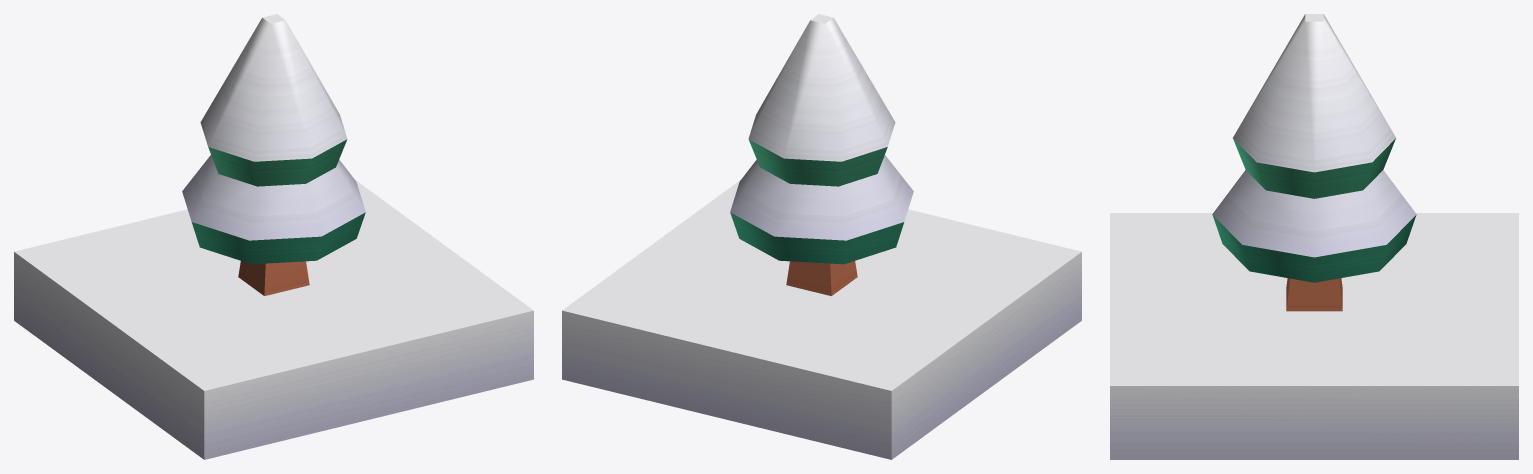
Rendered from snow-tile-tree.glb.
3 renders of one model, left to right at view 1: azimuth 30°, elevation 25°; view 2: azimuth 150°, elevation 25°; view 3: azimuth 270°, elevation 25°, orthographic. The views are drawn at different scales.
Visible parts, largest first — view 1: snow-tile-tree; view 2: snow-tile-tree; view 3: snow-tile-tree.
Boxes of the visible parts, x1,y1,x2,y2 form: snow-tile-tree: (14,14,533,459); snow-tile-tree: (562,14,1081,459); snow-tile-tree: (1110,14,1518,459).
Size of the model in its own units: 1 by 0.96 by 1.
Materials: 1 (1 with a texture image).
